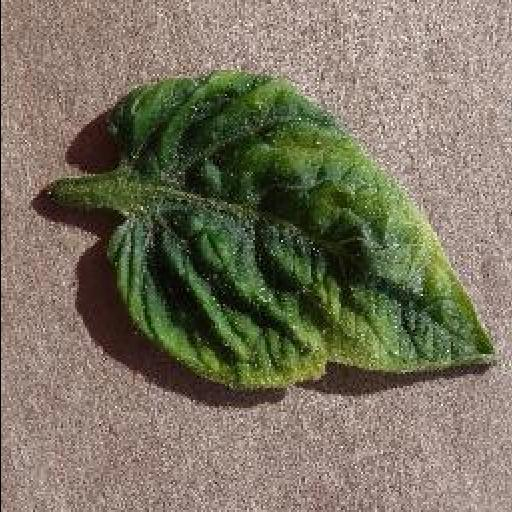disease_tomato: (104, 72, 498, 394)
